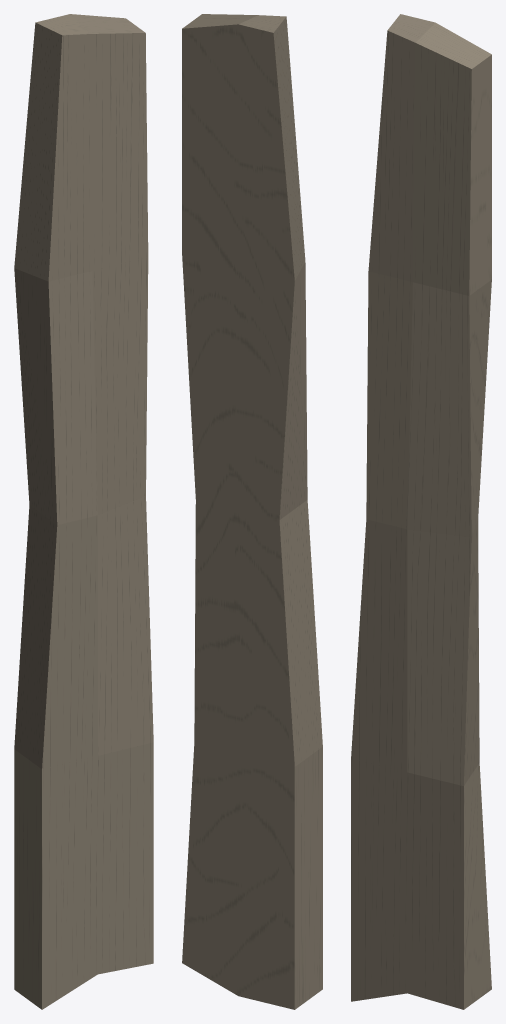
Rendered from Tablon5.fbx.
3 renders of one model, left to right at view 1: azimuth 30°, elevation 25°; view 2: azimuth 150°, elevation 25°; view 3: azimuth 330°, elevation 25°, orthographic.
Visible parts, largest first — view 1: Cube.013; view 2: Cube.013; view 3: Cube.013.
Boxes of the visible parts, box(x1,y1,x2,y2) form: Cube.013: box(14, 14, 153, 1009); Cube.013: box(182, 14, 322, 1009); Cube.013: box(351, 14, 491, 1009).
Size of the model in its own units: 106 by 871 by 45.66.
